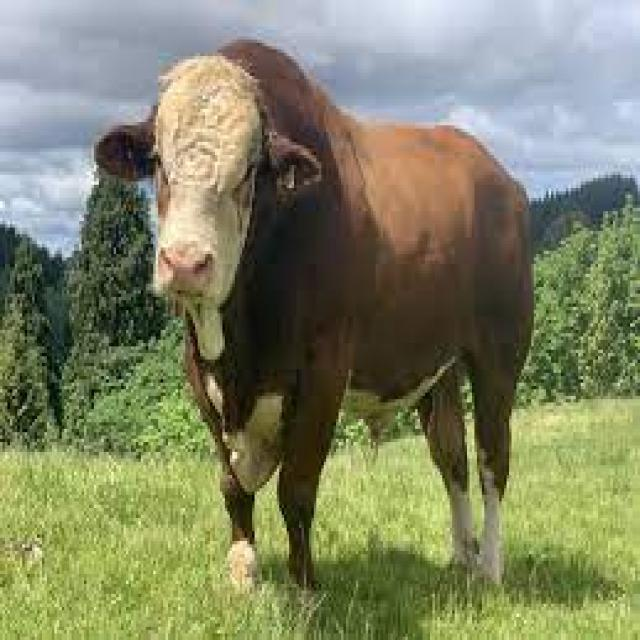cowFace: (86, 16, 328, 356)
